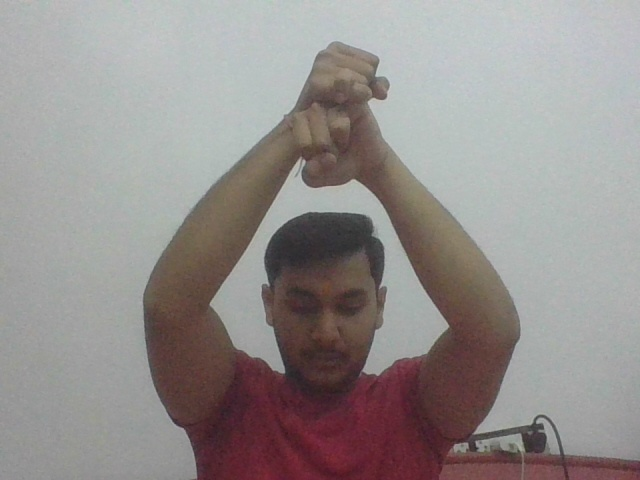S: (286, 38, 394, 191)
